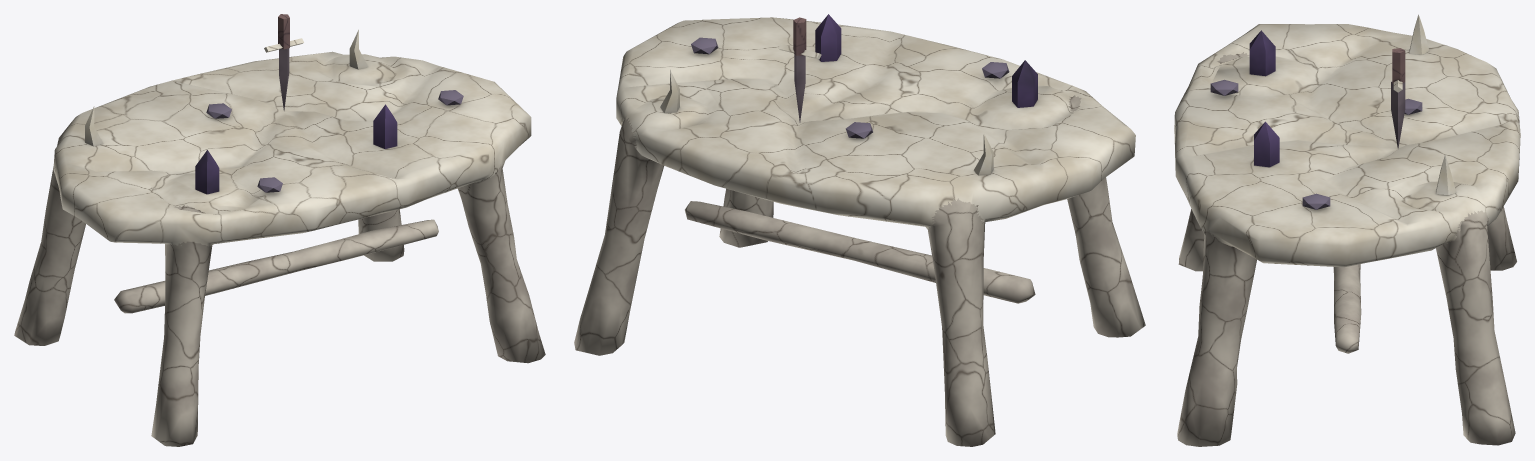
Rendered from mesa_estrategia.fbx.
3 renders of one model, left to right at view 1: azimuth 30°, elevation 25°; view 2: azimuth 150°, elevation 25°; view 3: azimuth 270°, elevation 25°, orthographic. The views are drawn at different scales.
Visible parts, largest first — view 1: mesa; view 2: mesa; view 3: mesa.
Boxes of the visible parts, x1=… form: mesa: x1=14, y1=14, x2=545, y2=446; mesa: x1=574, y1=14, x2=1145, y2=446; mesa: x1=1174, y1=14, x2=1520, y2=446.
Size of the model in its own units: 3 by 2 by 2.
1 material, 1 textured.
